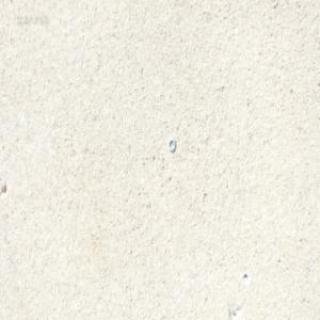Washertrack_idkeyframe: (156, 119, 188, 157), (156, 130, 186, 161)
